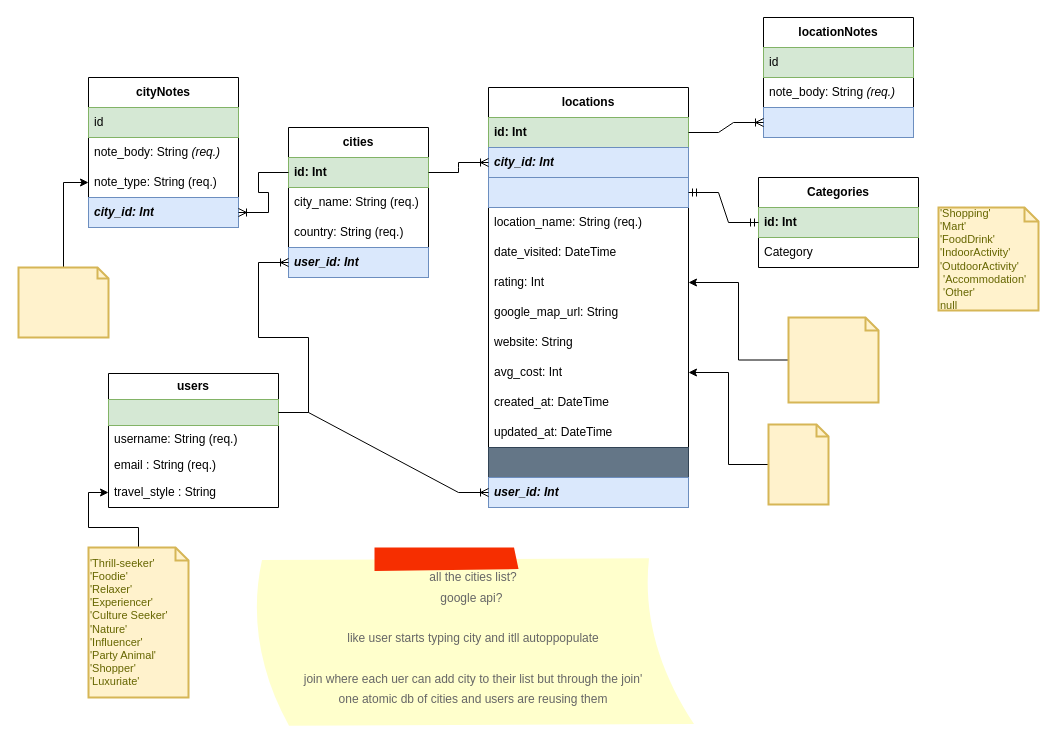
The diagram is 1056 pixels wide and 745 high, and some of its shapes have lost their labels. Each missing label, with the centre of its shape:
'Safety' 'Communication' 'Transportation' 'Other': the point at 63,302
0 : free 1 : $ 2: $$ 3: $$$: the point at 798,464
0: never again 1: Kinda bad 2: meh 3: Pretty good 4: Must go: the point at 833,359
category_id: Int: the point at 588,192
id : Int: the point at 193,412
image: blob (stretch): the point at 588,462
location_id: Int: the point at 838,122
